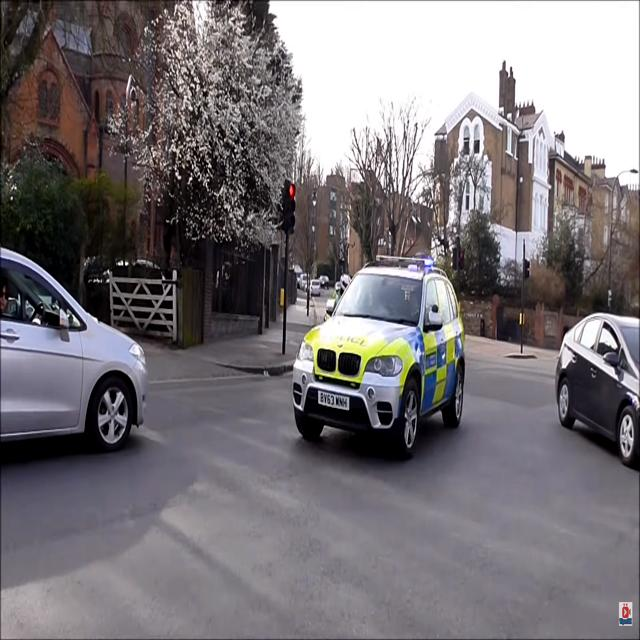emergency-vehicles: (271, 242, 474, 484)
